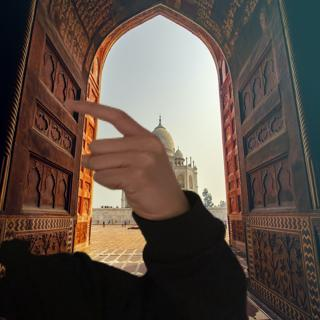WHY: (61, 93, 187, 216)
